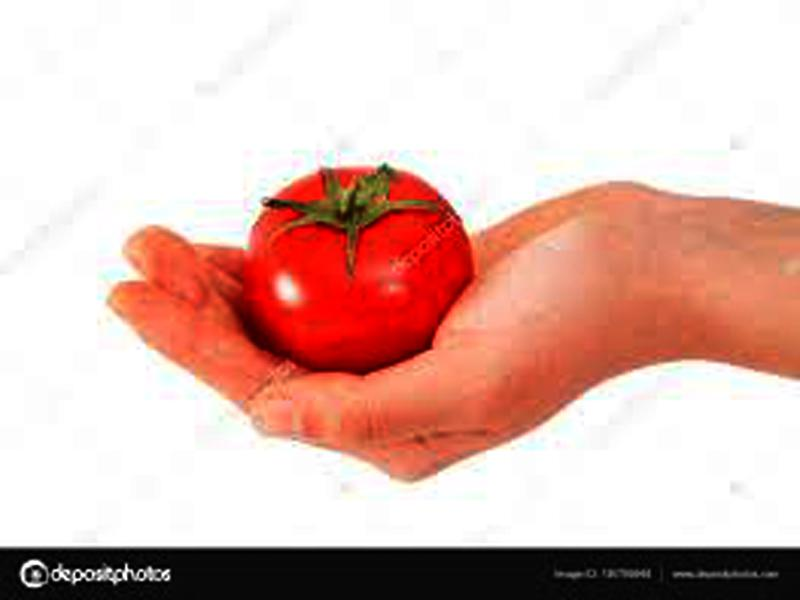Tomato: (249, 169, 475, 369)
